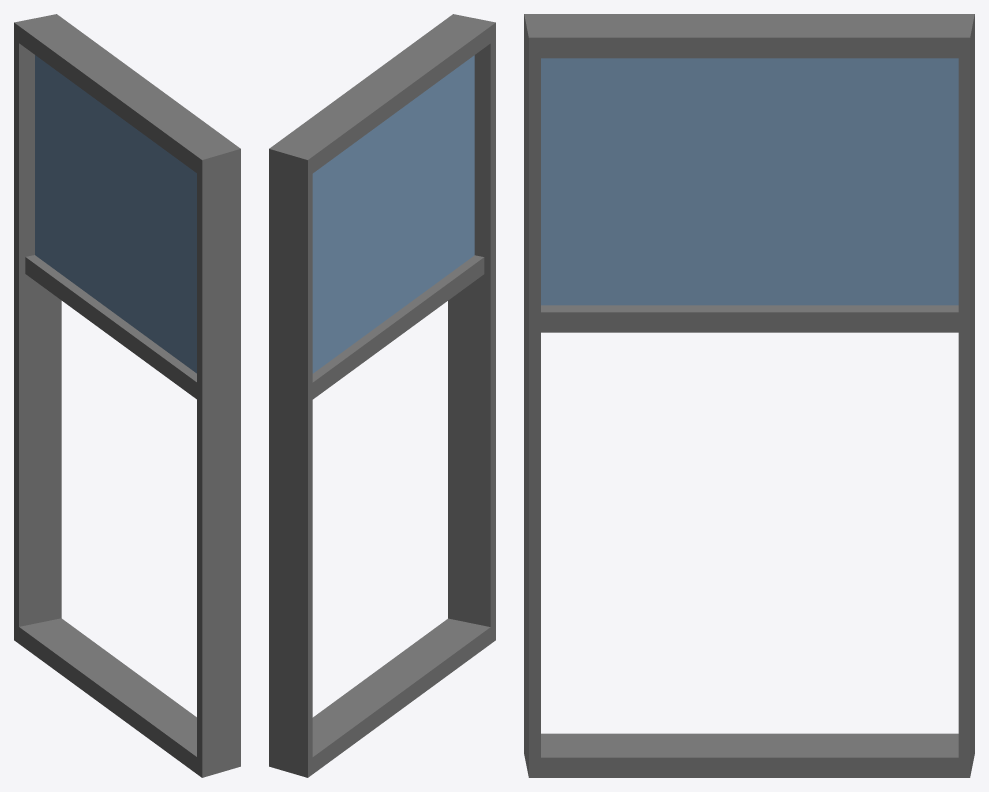
Rendered from SM_Build_DoorFrame.FBX.
The picture shows the model from 3 angles, left to right: view 1: azimuth 30°, elevation 25°; view 2: azimuth 150°, elevation 25°; view 3: azimuth 270°, elevation 25°; orthographic projection. The views are drawn at different scales.
Parts seen in each view (by area): view 1: SM_Build_DoorFrame; view 2: SM_Build_DoorFrame; view 3: SM_Build_DoorFrame.
Part boxes in pixels (x1=…): SM_Build_DoorFrame: x1=14, y1=14, x2=240, y2=777; SM_Build_DoorFrame: x1=269, y1=14, x2=495, y2=777; SM_Build_DoorFrame: x1=524, y1=14, x2=974, y2=777.
Bounding box in the file's own units: 25 × 362 × 200.
